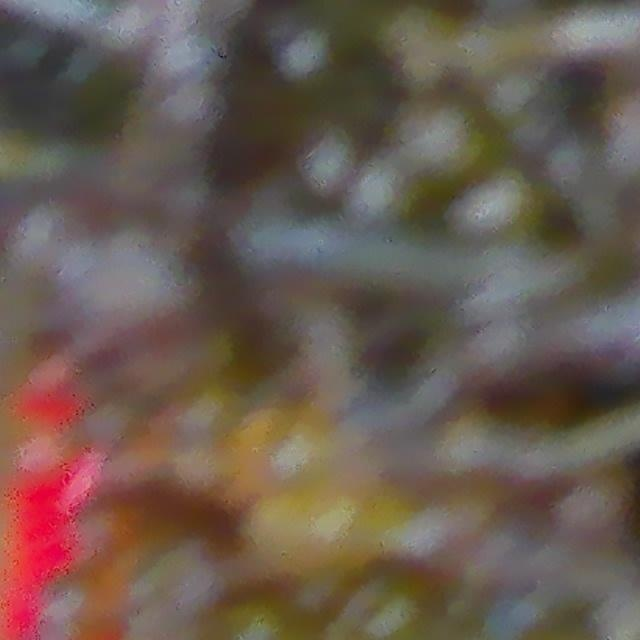SeaGrape: (394, 99, 486, 184)
